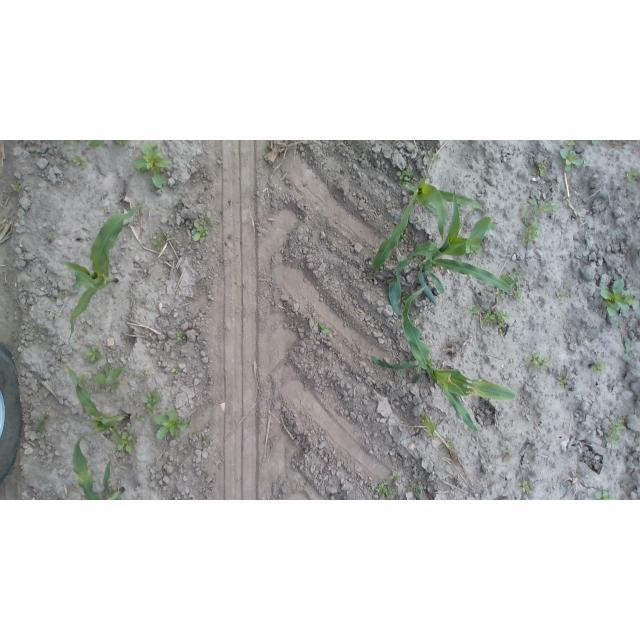Maize: (369, 285, 520, 431), (372, 180, 512, 309), (57, 205, 146, 349), (64, 366, 137, 454), (70, 434, 130, 499)
Weeds: (518, 191, 562, 251), (132, 143, 168, 192), (599, 278, 638, 323), (471, 301, 511, 333), (153, 408, 189, 443), (95, 361, 128, 392), (557, 140, 584, 177), (524, 349, 552, 377), (605, 415, 630, 446), (112, 433, 140, 456), (139, 391, 164, 414), (621, 338, 639, 367), (556, 280, 576, 305), (372, 482, 399, 499), (192, 221, 211, 244), (32, 416, 53, 436), (535, 157, 551, 183), (85, 344, 104, 365), (148, 235, 168, 254), (626, 165, 640, 188), (8, 180, 28, 196), (174, 328, 191, 346), (316, 320, 332, 338), (69, 156, 91, 169), (393, 168, 412, 183), (387, 470, 401, 489), (558, 377, 570, 397), (520, 480, 537, 494), (412, 482, 425, 500), (591, 492, 620, 500), (169, 364, 187, 376), (589, 362, 605, 375), (138, 368, 151, 380), (502, 445, 514, 456)
